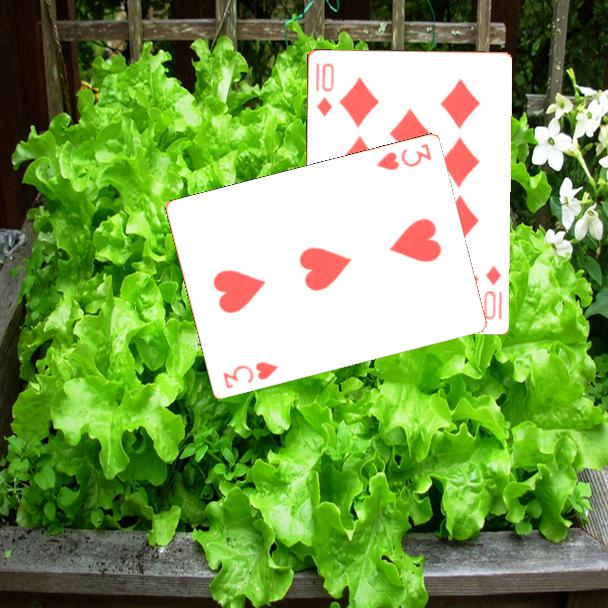d10: (480, 262, 504, 322), (313, 59, 336, 119)
h03: (219, 358, 281, 392), (372, 140, 434, 174)
